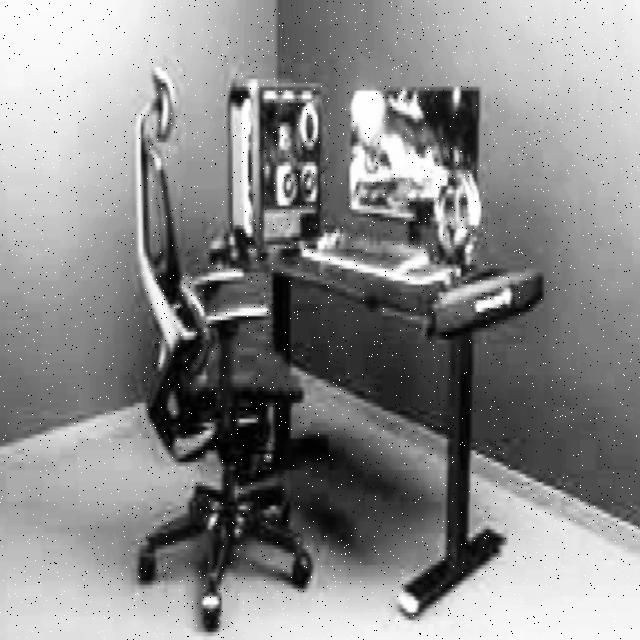book: (134, 67, 316, 628)
table: (266, 233, 546, 616)
